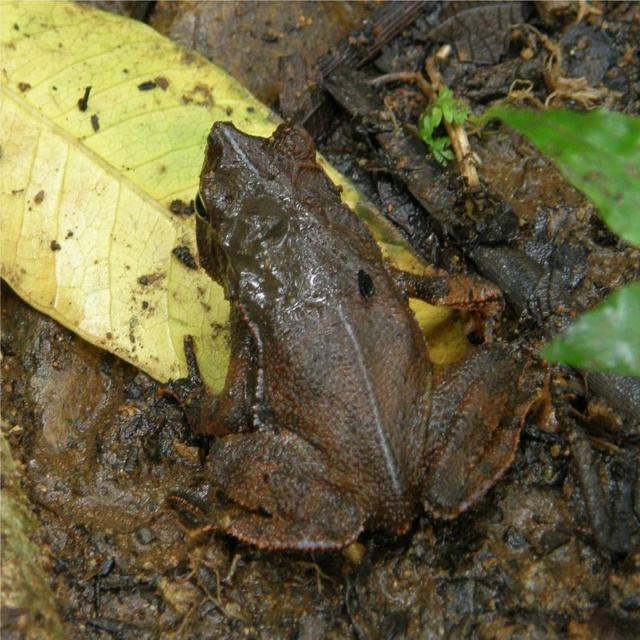Frog: (196, 121, 543, 555)
